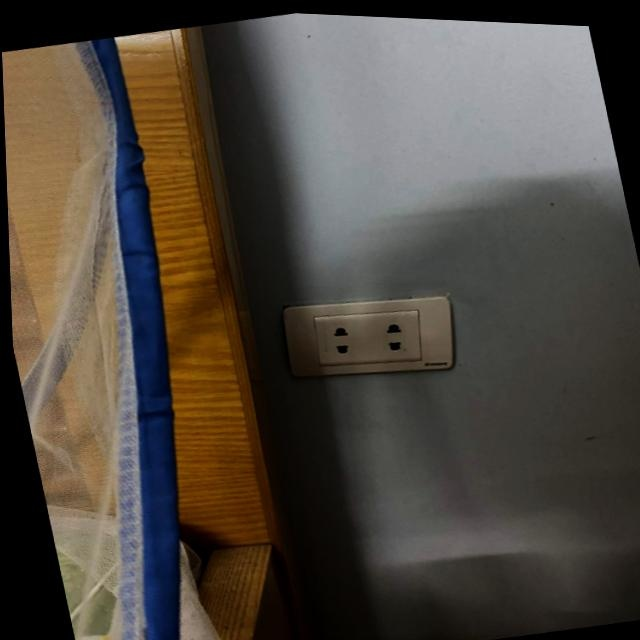outlet: (274, 276, 465, 398)
